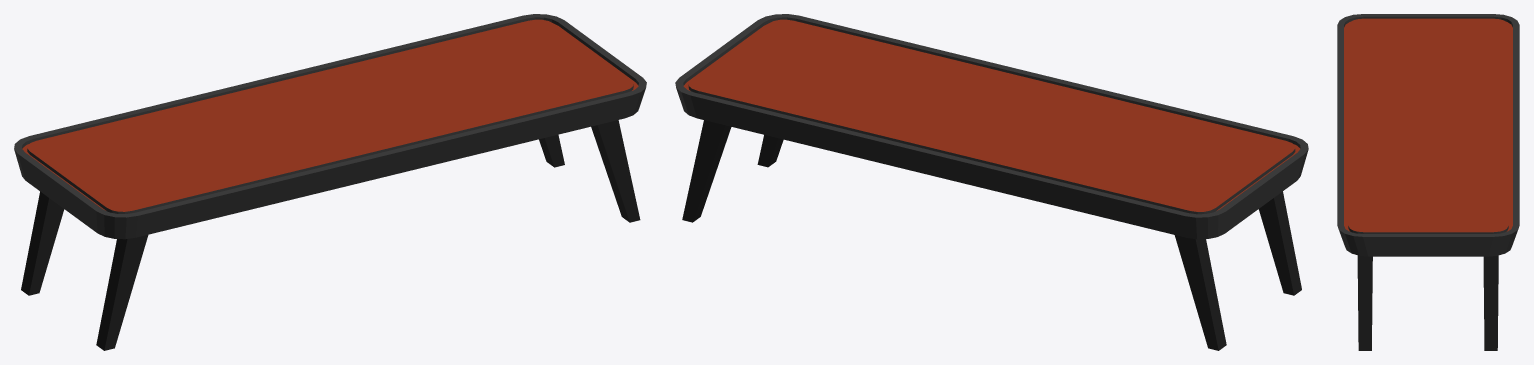
File: ctable-2.glb
3 renders of one model, left to right at view 1: azimuth 30°, elevation 25°; view 2: azimuth 150°, elevation 25°; view 3: azimuth 270°, elevation 25°, orthographic. The views are drawn at different scales.
Visible parts, largest first — view 1: CTable_2; view 2: CTable_2; view 3: CTable_2.
Part boxes in pixels (bbox=[...]): CTable_2: bbox=[14, 14, 646, 350]; CTable_2: bbox=[675, 14, 1308, 350]; CTable_2: bbox=[1337, 14, 1519, 350].
Bounding box in the file's own units: 217 × 52.86 × 75.
1 material, 1 textured.
